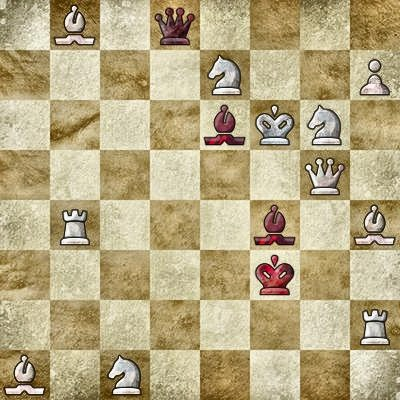black-bishop: (200, 100, 250, 150), (250, 200, 300, 250)
black-king: (250, 250, 300, 300)
black-queen: (150, 0, 200, 50)
white-bishop: (50, 0, 100, 50), (350, 200, 400, 250), (0, 350, 50, 400)
white-king: (250, 100, 300, 150)
white-knight: (200, 50, 250, 100), (300, 100, 350, 150), (100, 350, 150, 400)
white-pawn: (350, 50, 400, 100)
white-queen: (300, 150, 350, 200)
white-rook: (50, 200, 100, 250), (350, 300, 400, 350)
